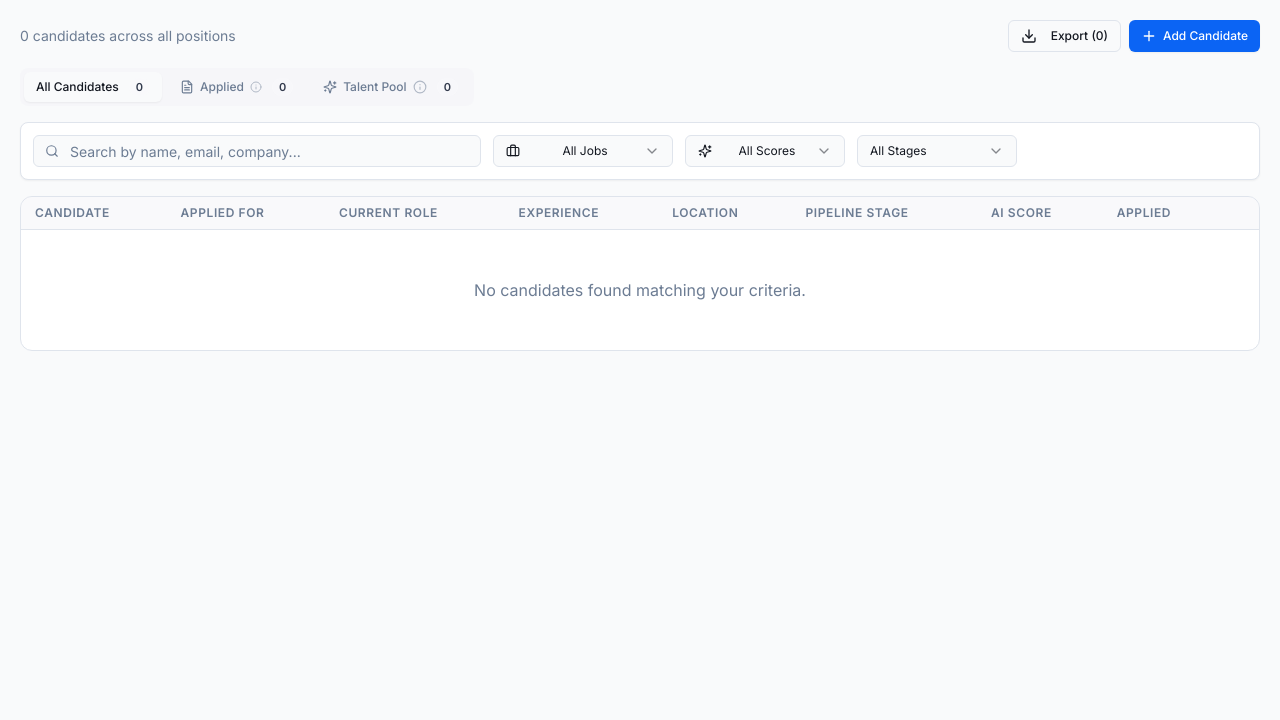
Test case: QA Suite: Production URLs & Shortlisted/Candidates Directory › 3. Renders Candidates directory with Export CSV button, Add Candidate button, and tab filters
The image size is (1280, 720).
Expected: the button "Export (0)" is enabled, [1008,20,1121,52]
Expected: the field with placeholder "Search by name, email, company..." is shown, [33,135,481,167]
// Clicking Add Candidate opens modal
Click the button "Add Candidate".
click(1194, 36)  # box [1129,20,1260,52]
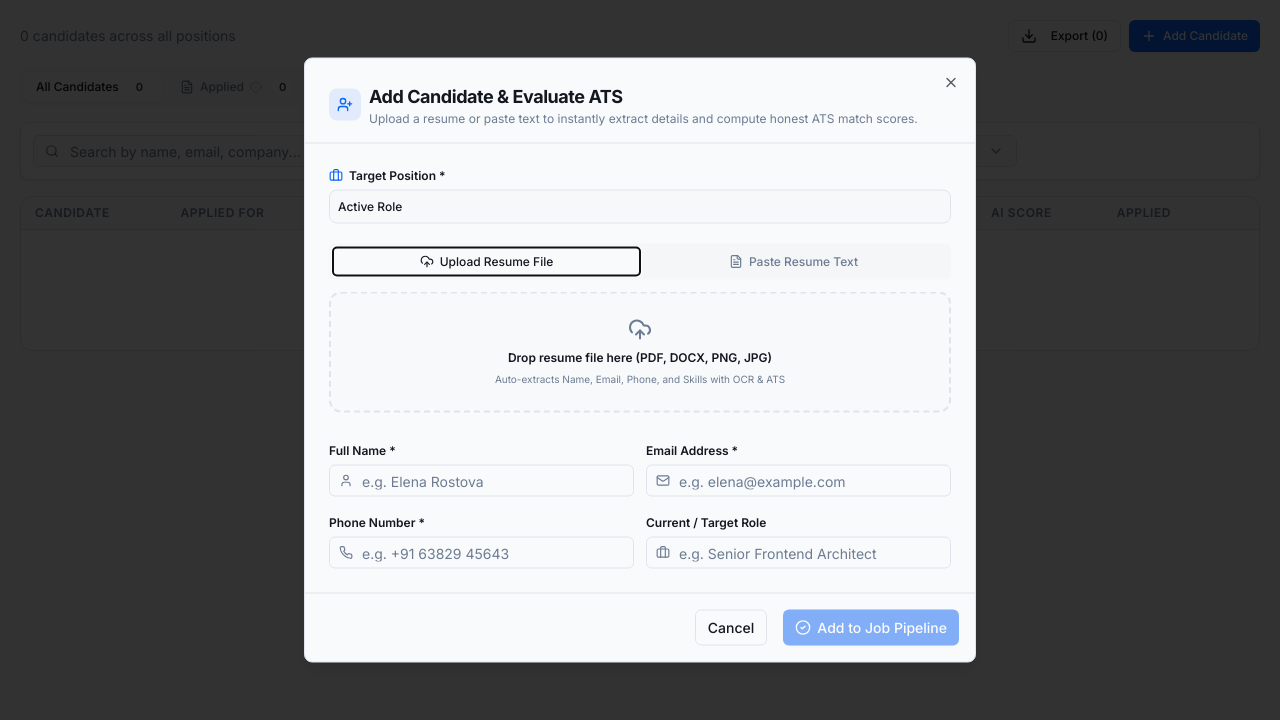
Result: the heading "Add Candidate & Evaluate ATS" is shown at [369,86,623,106]
